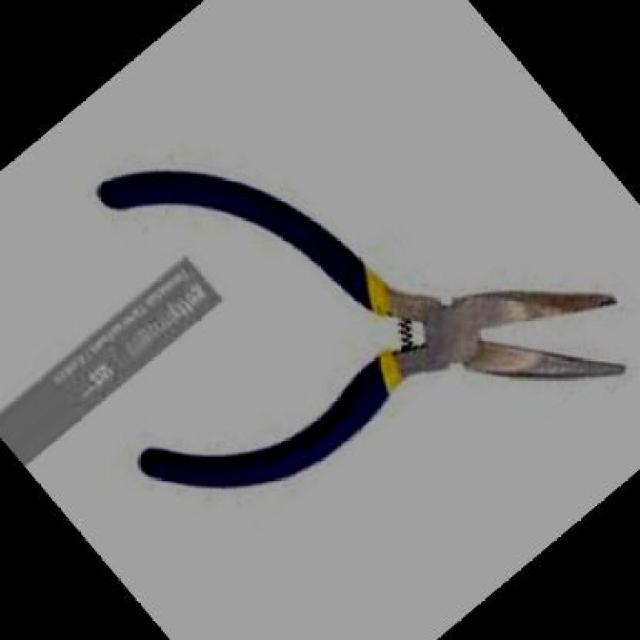pliers: (206, 90, 639, 566)
